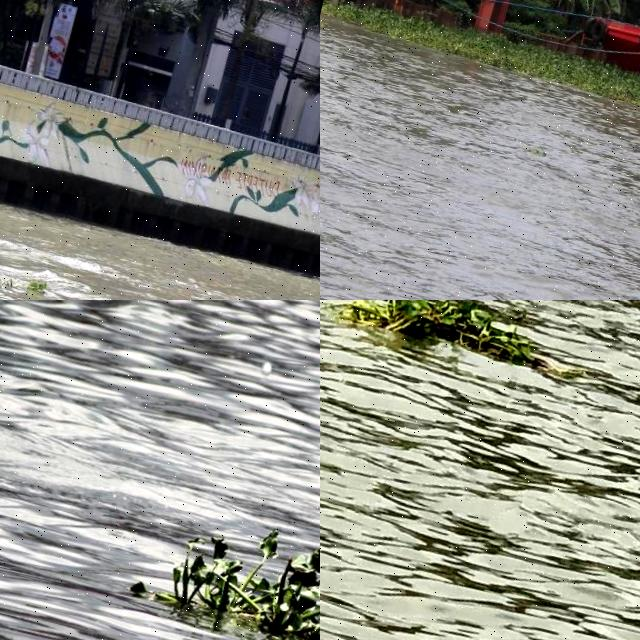water-hyacinth: (322, 1, 640, 101), (125, 506, 321, 640), (322, 301, 573, 380), (2, 277, 48, 297)
